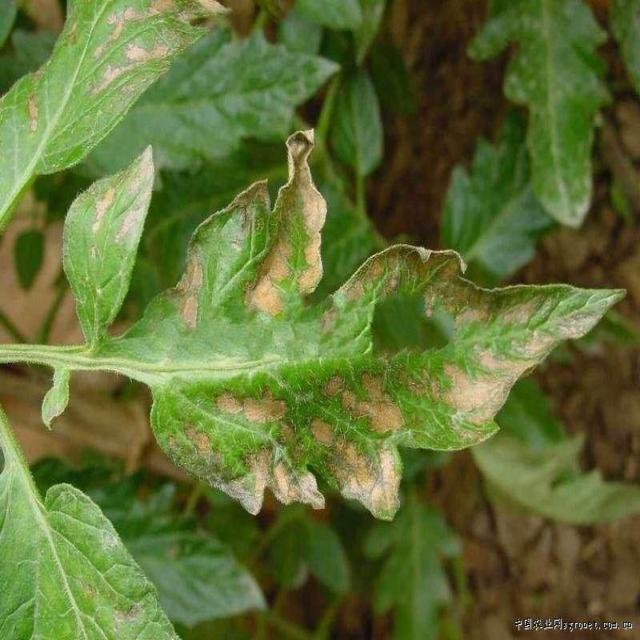Early_blight: (162, 244, 629, 521), (222, 127, 329, 319), (69, 1, 232, 95), (85, 146, 154, 247), (160, 234, 207, 332), (23, 88, 42, 133)
